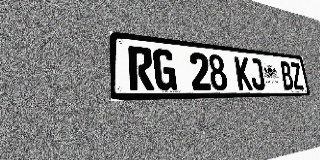2: (189, 52, 211, 90)
8: (208, 54, 228, 90)
B: (279, 61, 294, 90)
G: (152, 48, 177, 90)
J: (248, 58, 266, 90)
K: (234, 56, 253, 90)
R: (128, 46, 154, 91)
Z: (290, 62, 304, 90)
